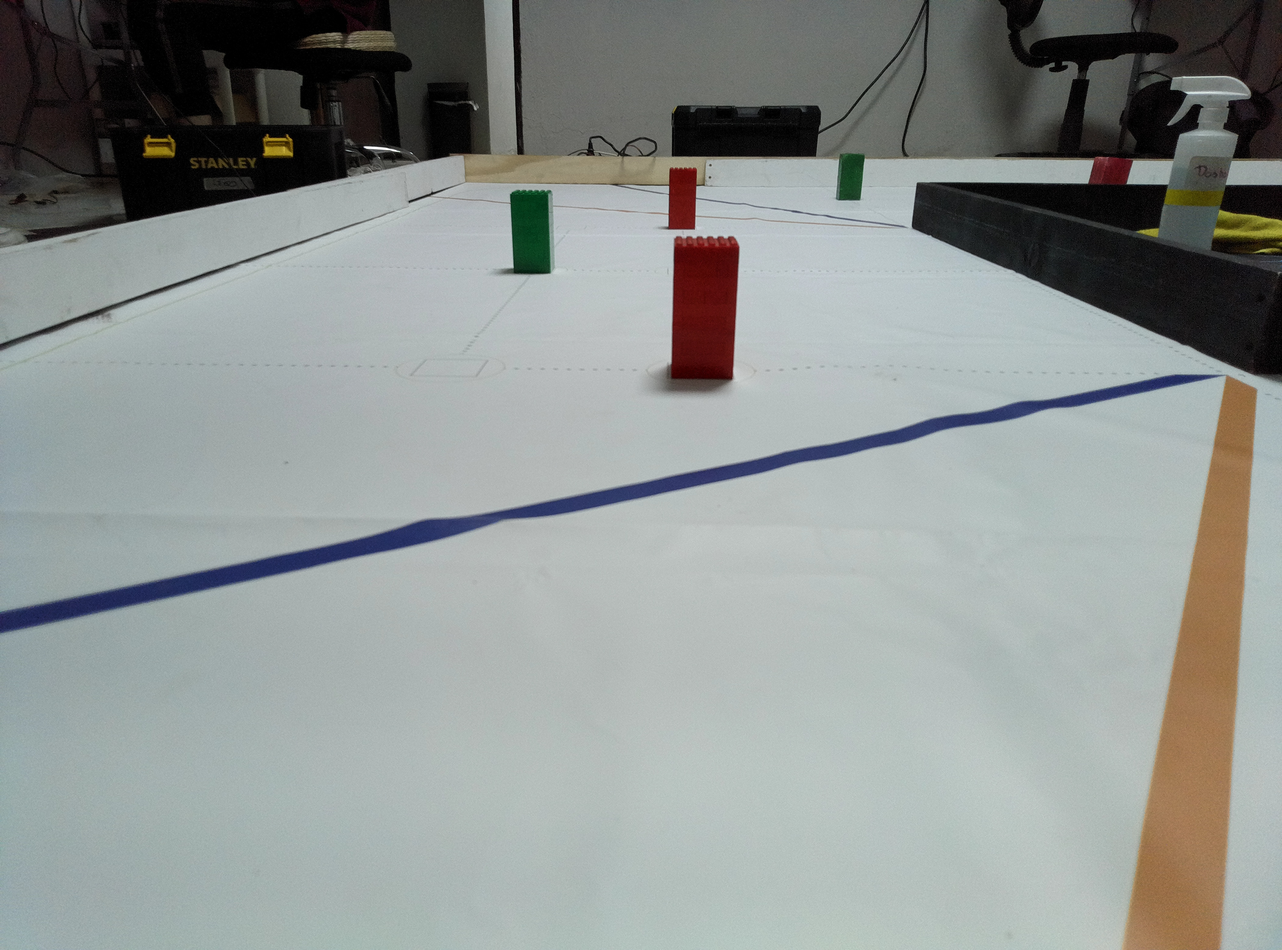greenbox: (509, 189, 557, 275), (835, 152, 866, 202)
redbox: (670, 234, 743, 383), (668, 166, 698, 230), (1086, 156, 1135, 185)
